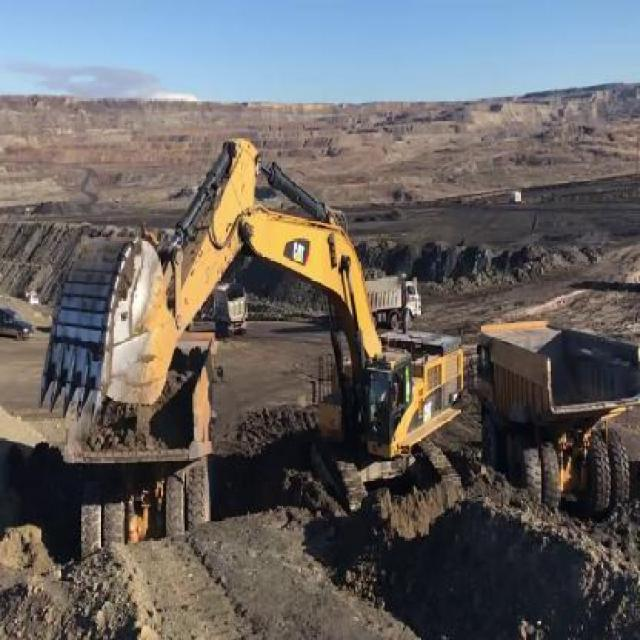Dump Truck: (67, 337, 222, 561), (472, 319, 634, 513), (365, 278, 420, 330), (211, 290, 247, 335)
Excavator: (36, 130, 469, 505)
